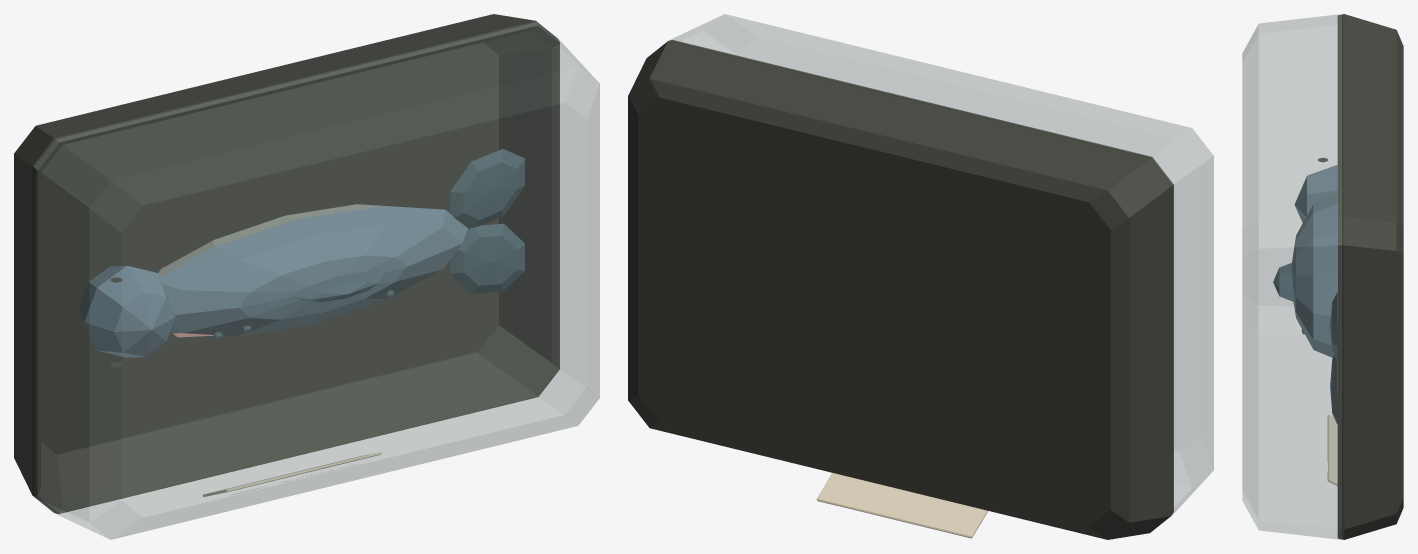
File: trout.glb
3 renders of one model, left to right at view 1: azimuth 30°, elevation 25°; view 2: azimuth 150°, elevation 25°; view 3: azimuth 270°, elevation 25°, orthographic. The views are drawn at different scales.
Parts seen in each view (by area): view 1: trout; view 2: trout; view 3: trout.
Part boxes in pixels (<box>): trout: <box>14,14,599,539</box>; trout: <box>628,14,1213,539</box>; trout: <box>1242,14,1403,539</box>.
Bounding box in the file's own units: 0.22 × 0.1639 × 0.068.
